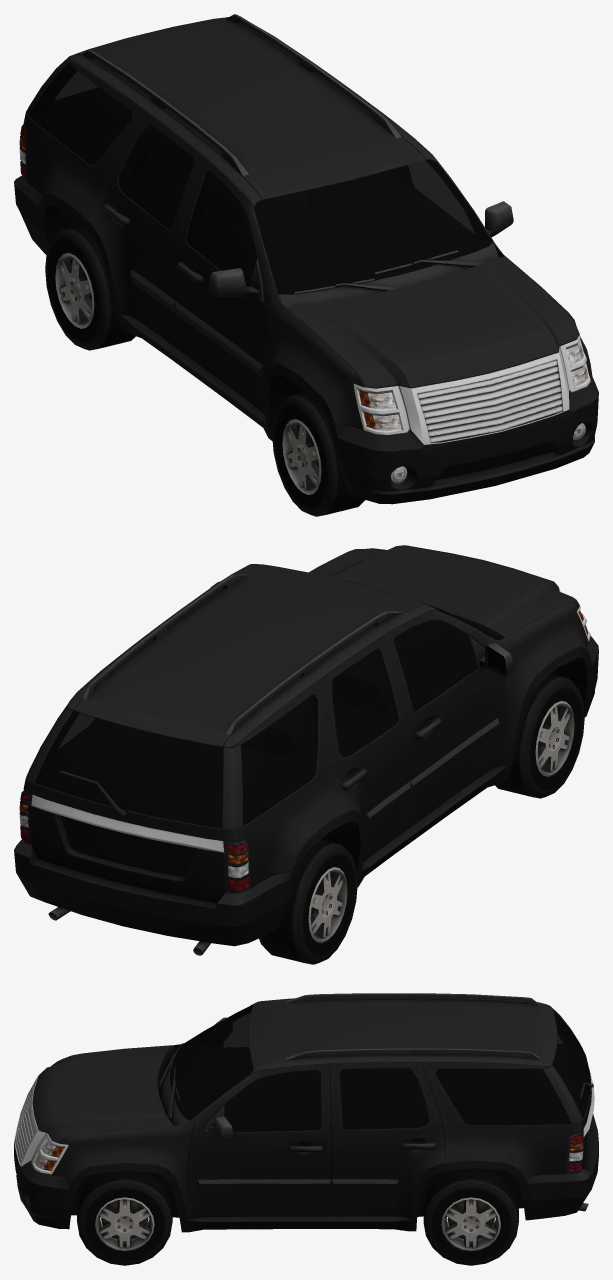
File: suv.glb
3 renders of one model, top to bottom at view 1: azimuth 30°, elevation 25°; view 2: azimuth 150°, elevation 25°; view 3: azimuth 270°, elevation 25°, orthographic. The views are drawn at different scales.
Parts seen in each view (by area): view 1: SUV Body_Body_0, SUV Body_Glass_0, Wheel_E003_Wheel_0, Wheel_E002_Wheel_0, SUV Body_Optics_0; view 2: SUV Body_Body_0, SUV Body_Glass_0, Wheel_E003_Wheel_0, Wheel_E002_Wheel_0, SUV Body_Optics_0; view 3: SUV Body_Body_0, SUV Body_Glass_0, Wheel_E001_Wheel_0, Wheel_E_Wheel_0, SUV Body_Optics_0.
Part boxes in pixels (x1,y1,x2,y2): SUV Body_Body_0: (14, 14, 598, 504); SUV Body_Glass_0: (29, 63, 492, 294); Wheel_E003_Wheel_0: (45, 225, 135, 350); Wheel_E002_Wheel_0: (272, 392, 364, 516); SUV Body_Optics_0: (19, 124, 588, 483); SUV Body_Body_0: (14, 545, 598, 955); SUV Body_Glass_0: (35, 580, 492, 828); Wheel_E003_Wheel_0: (259, 839, 357, 964); Wheel_E002_Wheel_0: (495, 674, 584, 798); SUV Body_Optics_0: (19, 610, 588, 891); SUV Body_Body_0: (14, 993, 598, 1232); SUV Body_Glass_0: (170, 1005, 590, 1132); Wheel_E001_Wheel_0: (423, 1168, 518, 1265); Wheel_E_Wheel_0: (77, 1170, 172, 1265); SUV Body_Optics_0: (34, 1132, 583, 1171).
Bounding box in the file's own units: 2.07 × 1.73 × 4.61.
Materials: 4 (3 with a texture image).
